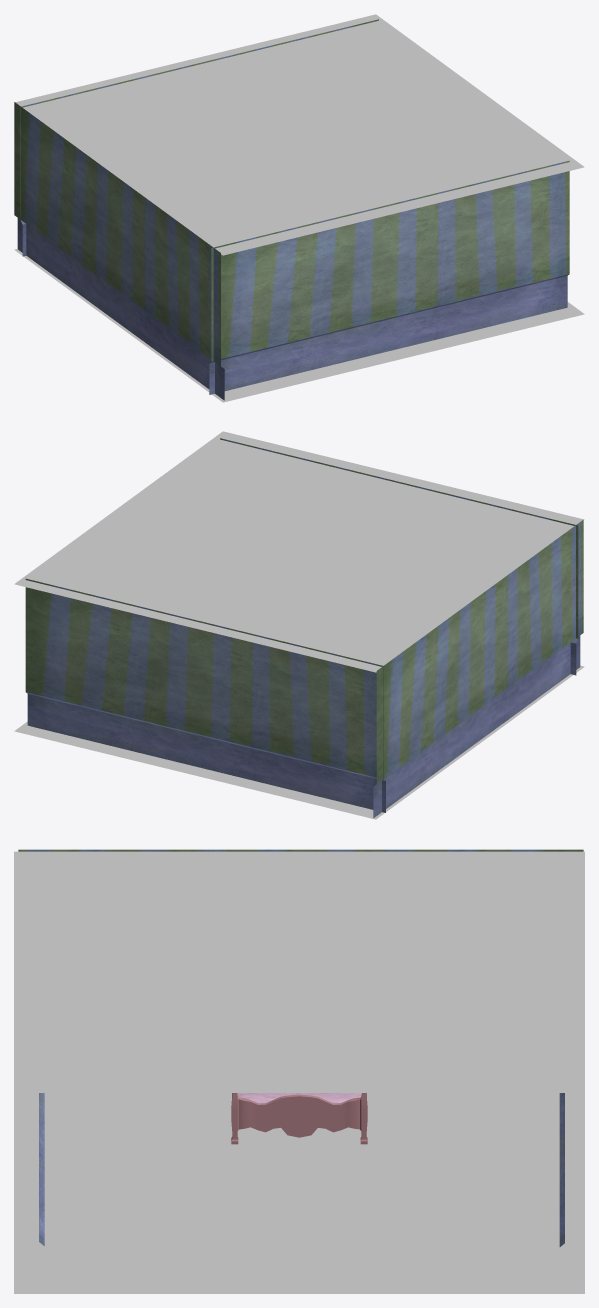
File: dummy_scene 1.fbx
3 views of the same model, one above another, from view 1: azimuth 30°, elevation 25°; view 2: azimuth 150°, elevation 25°; view 3: azimuth 270°, elevation 25° (orthographic). The views are drawn at different scales.
Parts seen in each view (by area): view 1: Plane.004, Plane.002, Plane.001, Plane, Plane.003; view 2: Plane.004, Plane.003, Plane.001, Plane, Plane.002; view 3: Plane.004, Plane, Cube, Plane.001, Plane.003, Plane.002, Matress.
Part boxes in pixels (bbox=[...]): Plane.004: bbox=[15, 14, 584, 255]; Plane.002: bbox=[209, 160, 569, 394]; Plane.001: bbox=[14, 102, 224, 400]; Plane: bbox=[14, 249, 584, 402]; Plane.003: bbox=[20, 19, 378, 256]; Plane.004: bbox=[14, 431, 584, 672]; Plane.003: bbox=[25, 578, 385, 812]; Plane.001: bbox=[373, 519, 583, 818]; Plane: bbox=[14, 665, 584, 819]; Plane.002: bbox=[220, 438, 578, 675]; Plane.004: bbox=[14, 851, 584, 1092]; Plane: bbox=[14, 1093, 584, 1293]; Cube: bbox=[231, 1093, 367, 1144]; Plane.001: bbox=[18, 849, 583, 851]; Plane.003: bbox=[559, 1093, 564, 1246]; Plane.002: bbox=[39, 1093, 44, 1245]; Matress: bbox=[232, 1093, 366, 1103].
Size of the model in its own units: 3191 by 1260 by 3169.
